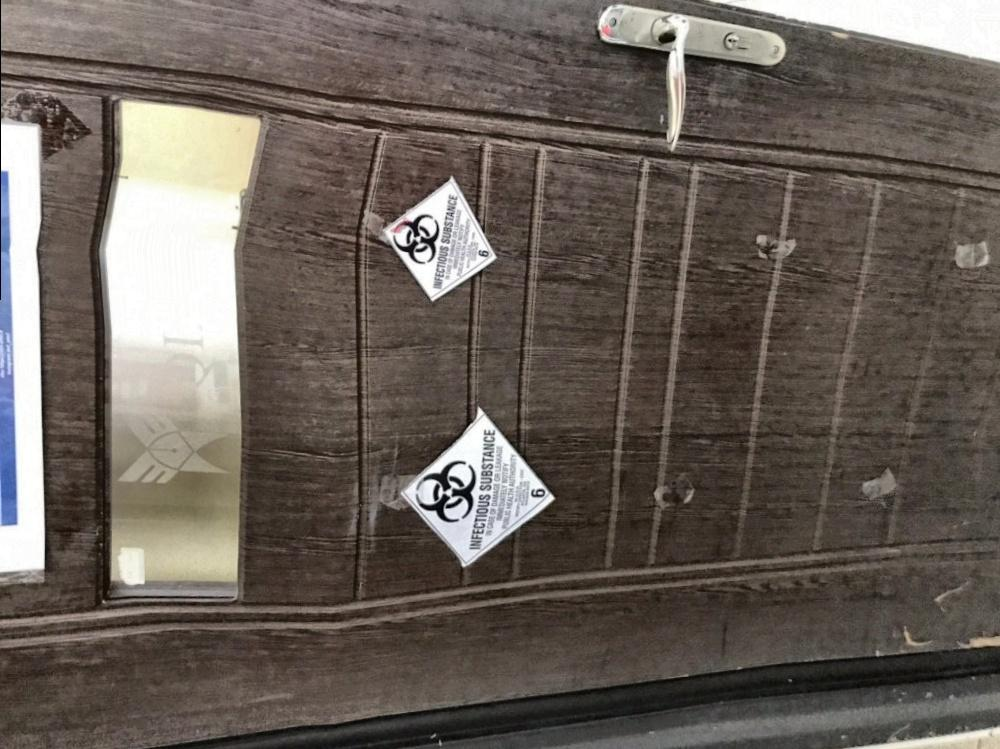infectious-substance: (396, 409, 567, 569), (386, 176, 511, 303)
